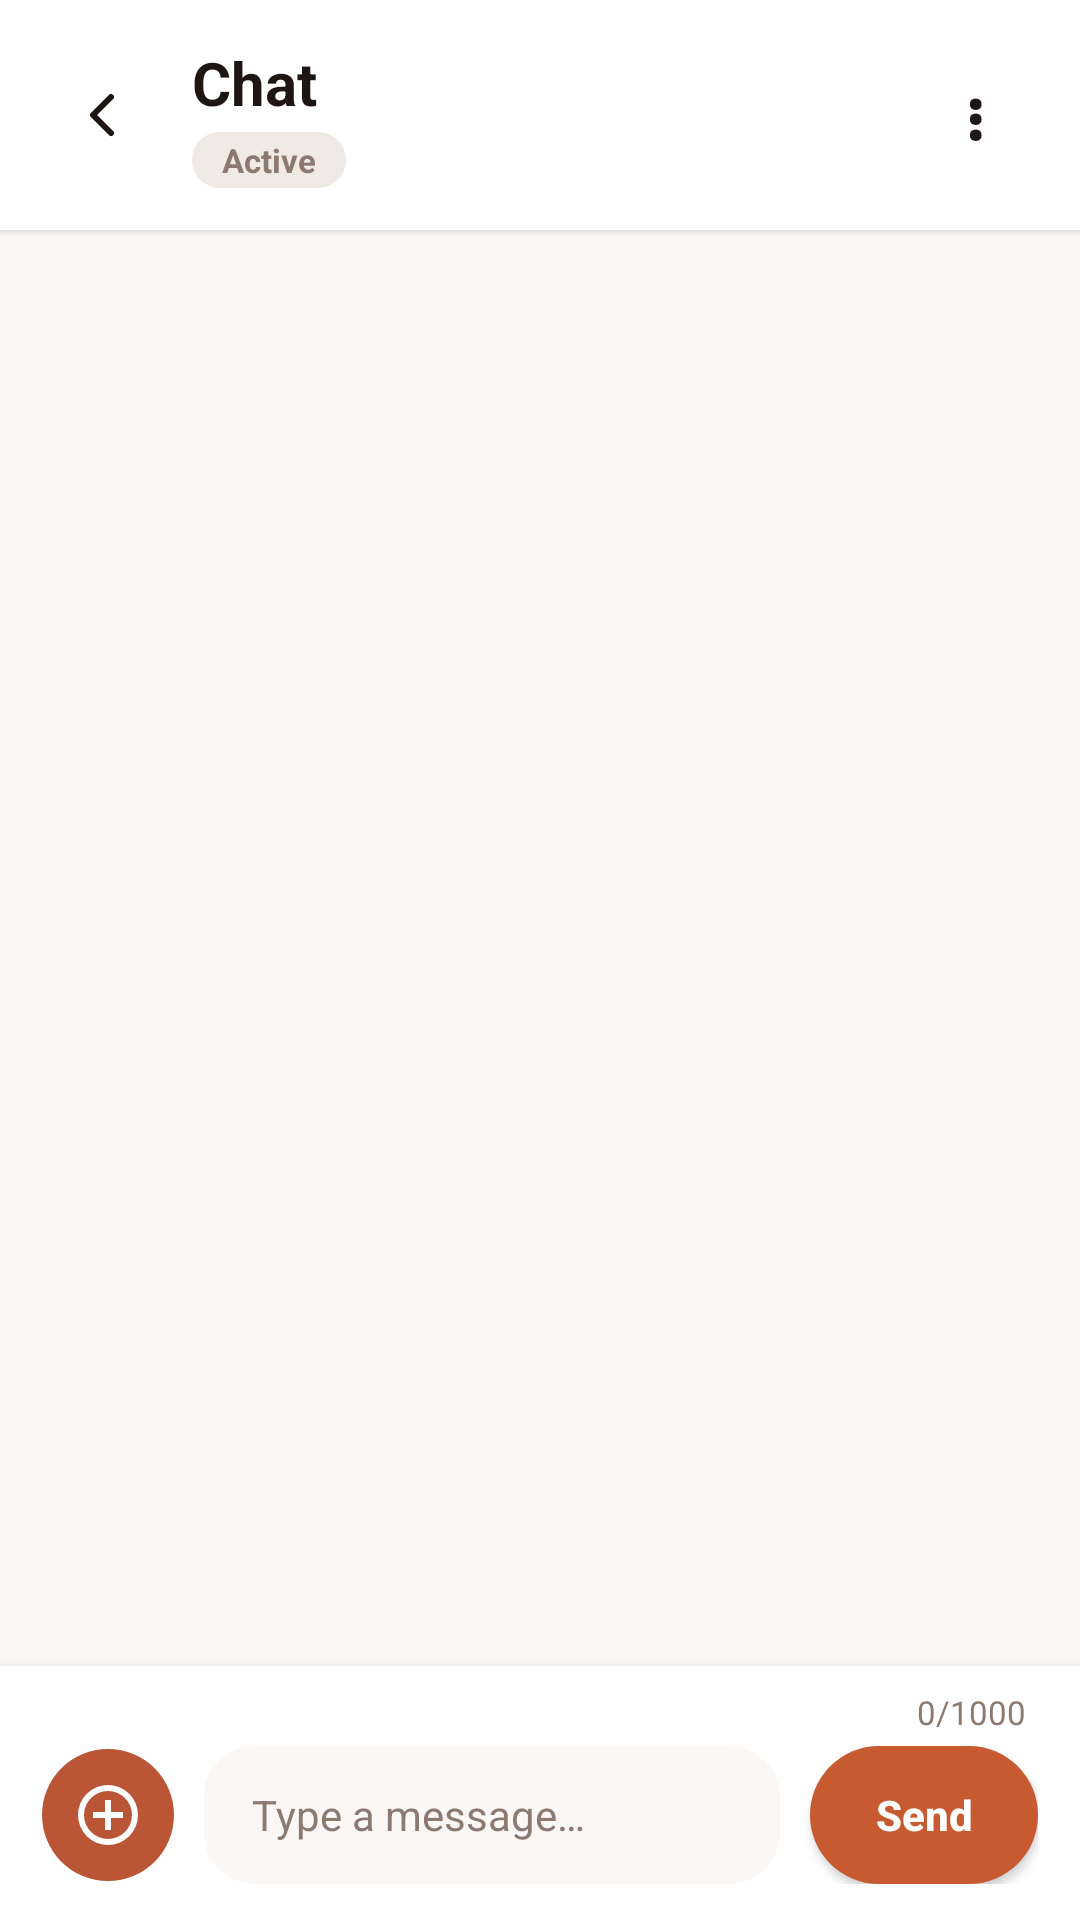

Icons on this 1080w x 1920h Android screen, each with its box as bbox=(x1, y1, x2, y2):
Go Back to previous screen: bbox=(90, 94, 114, 136)
